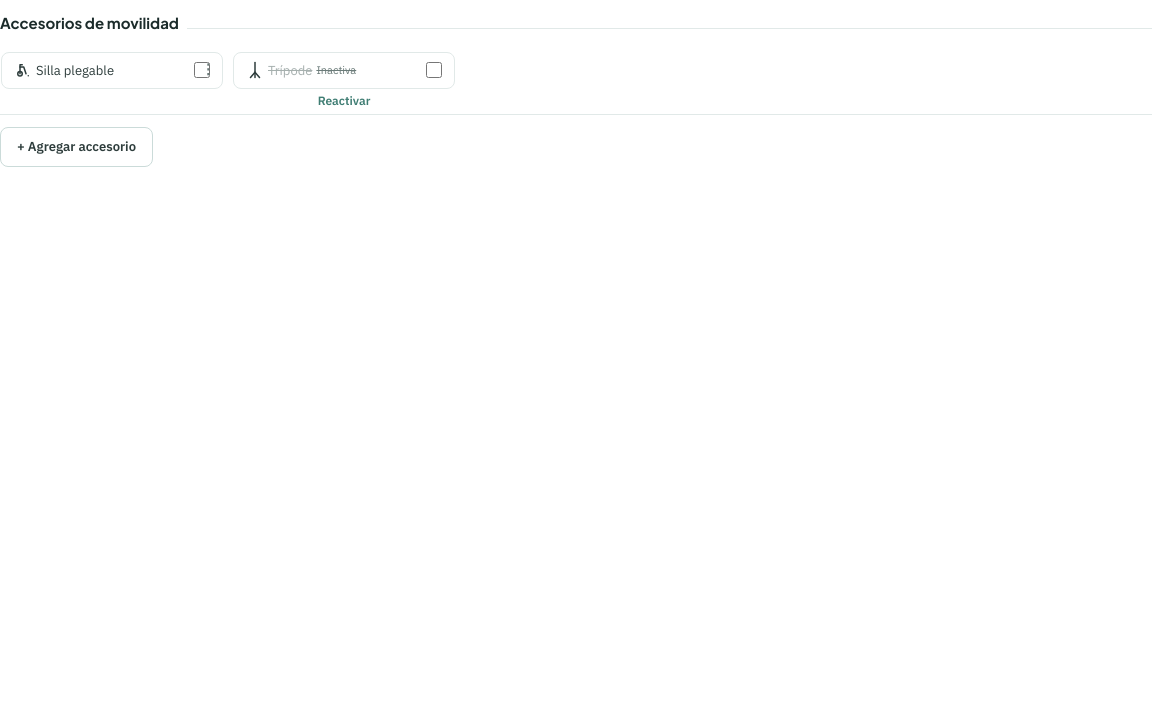
Test case: AccesoriosMovilidadSelector › desactivar: muestra el aviso de baja lógica antes de aplicar, y al confirmar queda tachado con Reactivar
Click the button named "silla plegable".
click(208, 68)  # box [197, 58, 219, 78]
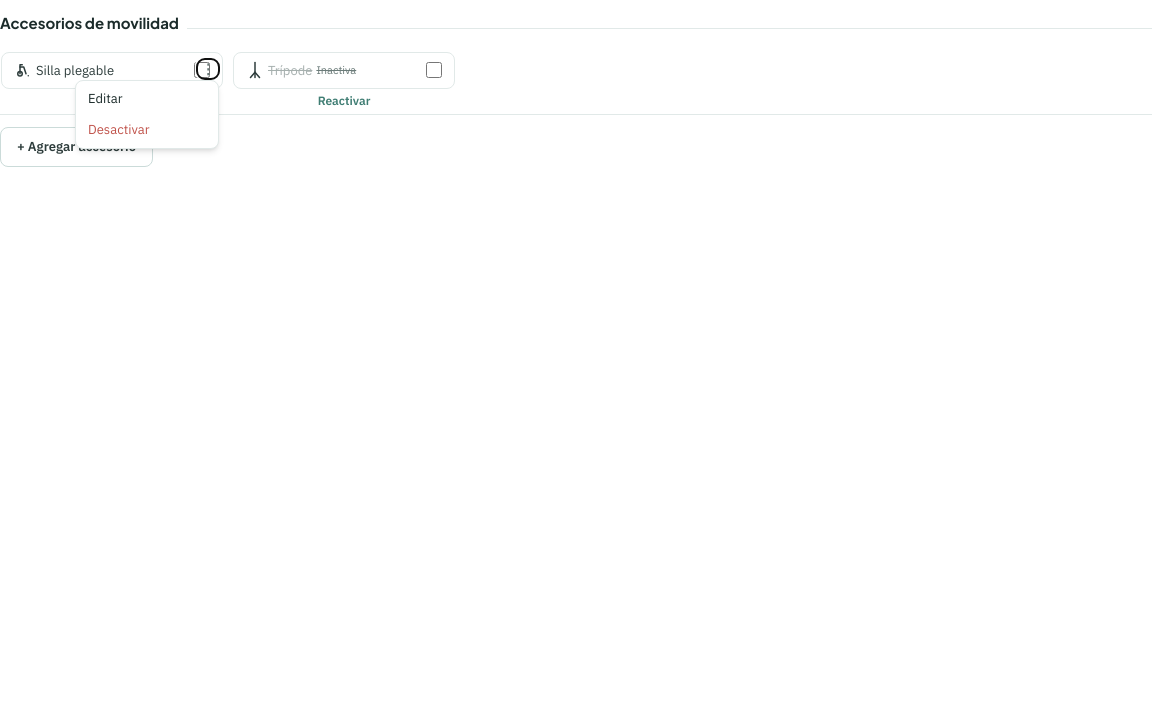
Click the menu item "Desactivar".
click(147, 130)  # box [80, 116, 214, 144]
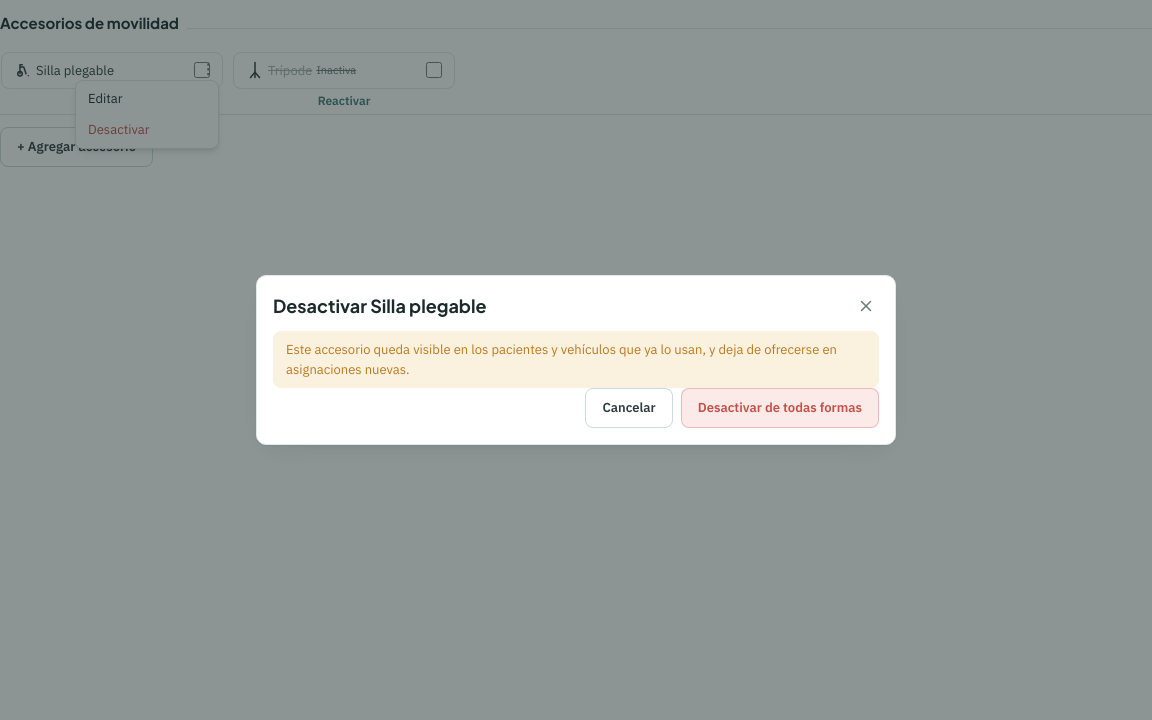
Expected: the text "deja de ofrecerse en asignaciones nuevas" is shown, [286, 341, 837, 378]
Click the button "Desactivar de todas formas".
click(780, 408)  # box [681, 388, 879, 428]
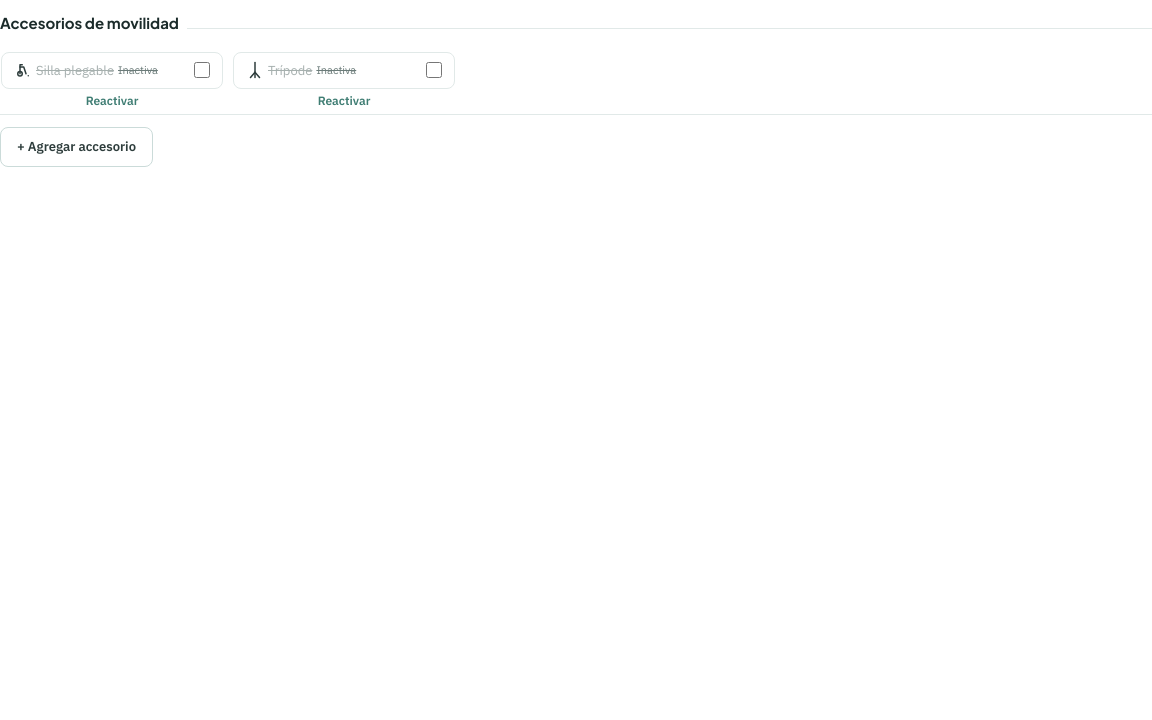
Expected: the button with aria-label "reactivar silla plegable" is shown, [1, 93, 223, 109]
